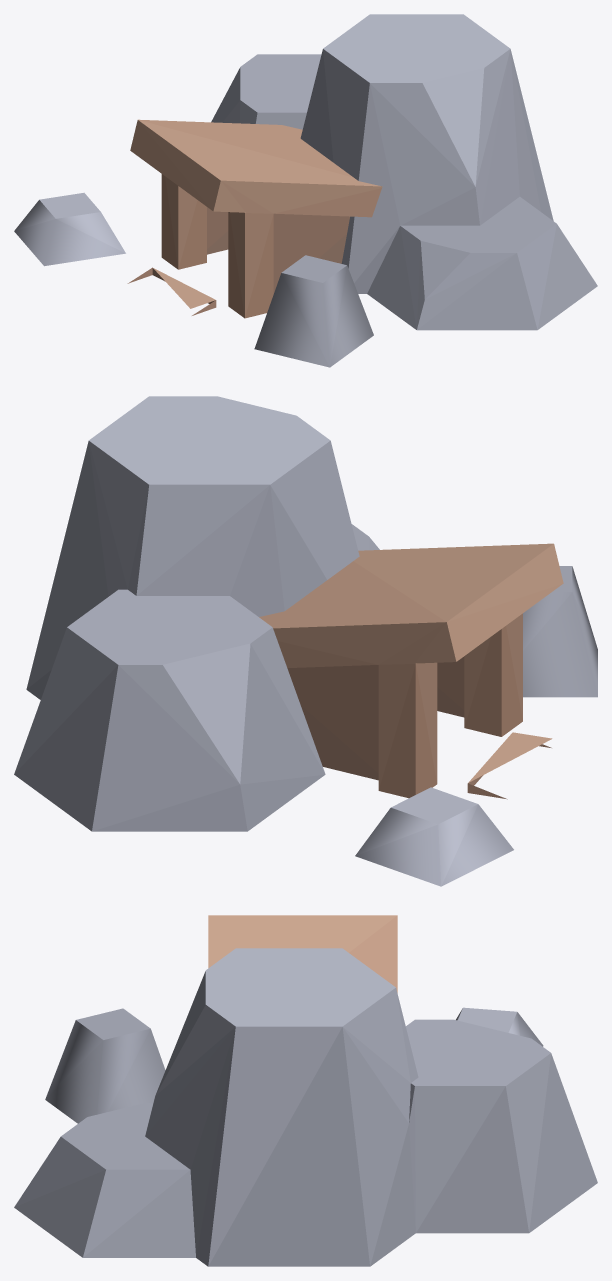
Rendered from building-mine.glb.
The picture shows the model from 3 angles, top to bottom: view 1: azimuth 30°, elevation 25°; view 2: azimuth 150°, elevation 25°; view 3: azimuth 270°, elevation 25°; orthographic projection. The views are drawn at different scales.
Visible parts, largest first — view 1: building-mine; view 2: building-mine; view 3: building-mine.
Part boxes in pixels (left/top/right/bottom): building-mine: left=14, top=14, right=597, bottom=367; building-mine: left=14, top=396, right=597, bottom=886; building-mine: left=14, top=915, right=597, bottom=1266.
Size of the model in its own units: 0.7132 by 0.3204 by 0.7705.
